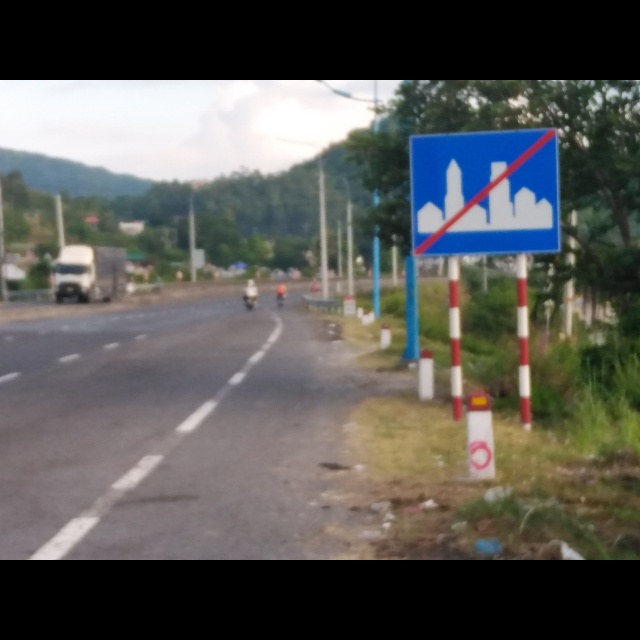Hết khu đông dân cư: (408, 124, 562, 255)
